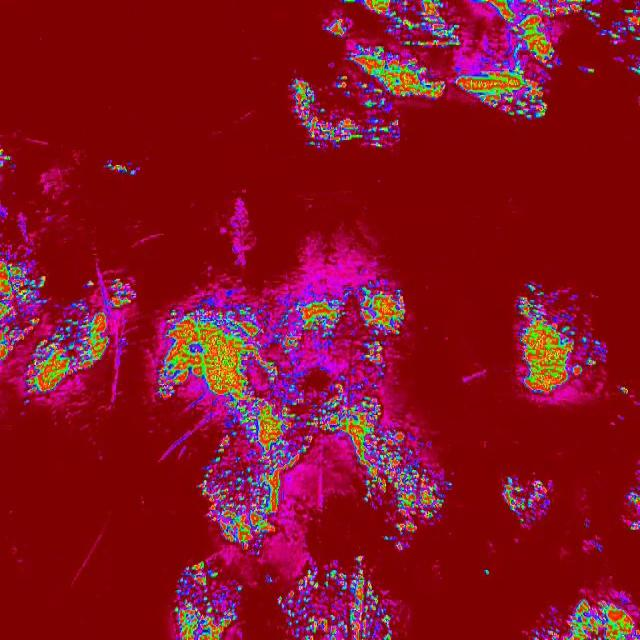fire: (158, 278, 420, 407), (0, 257, 138, 407), (198, 407, 306, 554), (346, 407, 455, 552), (316, 0, 458, 111), (456, 0, 567, 120), (279, 555, 399, 640), (516, 282, 607, 393), (174, 559, 250, 640), (318, 113, 411, 151), (566, 595, 640, 640), (502, 474, 552, 524), (289, 76, 317, 148), (304, 407, 347, 447), (601, 5, 640, 44), (568, 0, 599, 22), (626, 486, 640, 534), (103, 160, 141, 176), (528, 624, 560, 640), (0, 143, 14, 173), (628, 60, 640, 79), (578, 64, 596, 75), (618, 383, 629, 397), (482, 567, 492, 578), (265, 574, 273, 586)
